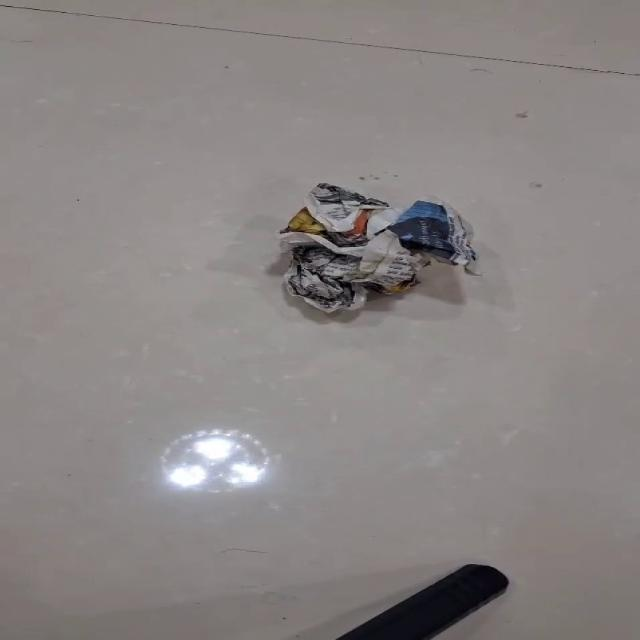paper: (276, 181, 480, 314)
